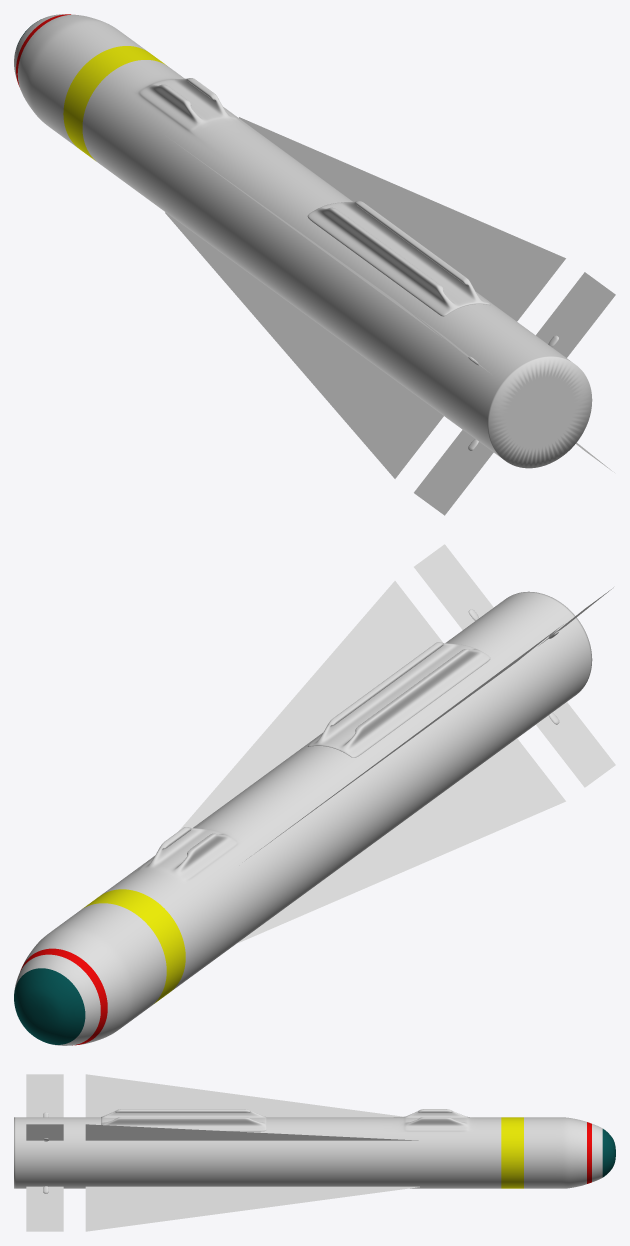
The model's file is AGM-65-Maverick-Air-to-Ground-Tactical-Missile.fbx.
The picture shows the model from 3 angles, top to bottom: view 1: azimuth 30°, elevation 25°; view 2: azimuth 150°, elevation 25°; view 3: azimuth 270°, elevation 25°; orthographic projection. The views are drawn at different scales.
Visible parts, largest first — view 1: Cylinder; view 2: Cylinder; view 3: Cylinder.
Boxes of the visible parts, box(x1,y1,x2,y2) form: Cylinder: box(14, 14, 615, 515); Cylinder: box(14, 544, 615, 1045); Cylinder: box(14, 1074, 615, 1231).
Size of the model in its own units: 1.93 by 1.93 by 9.79.
